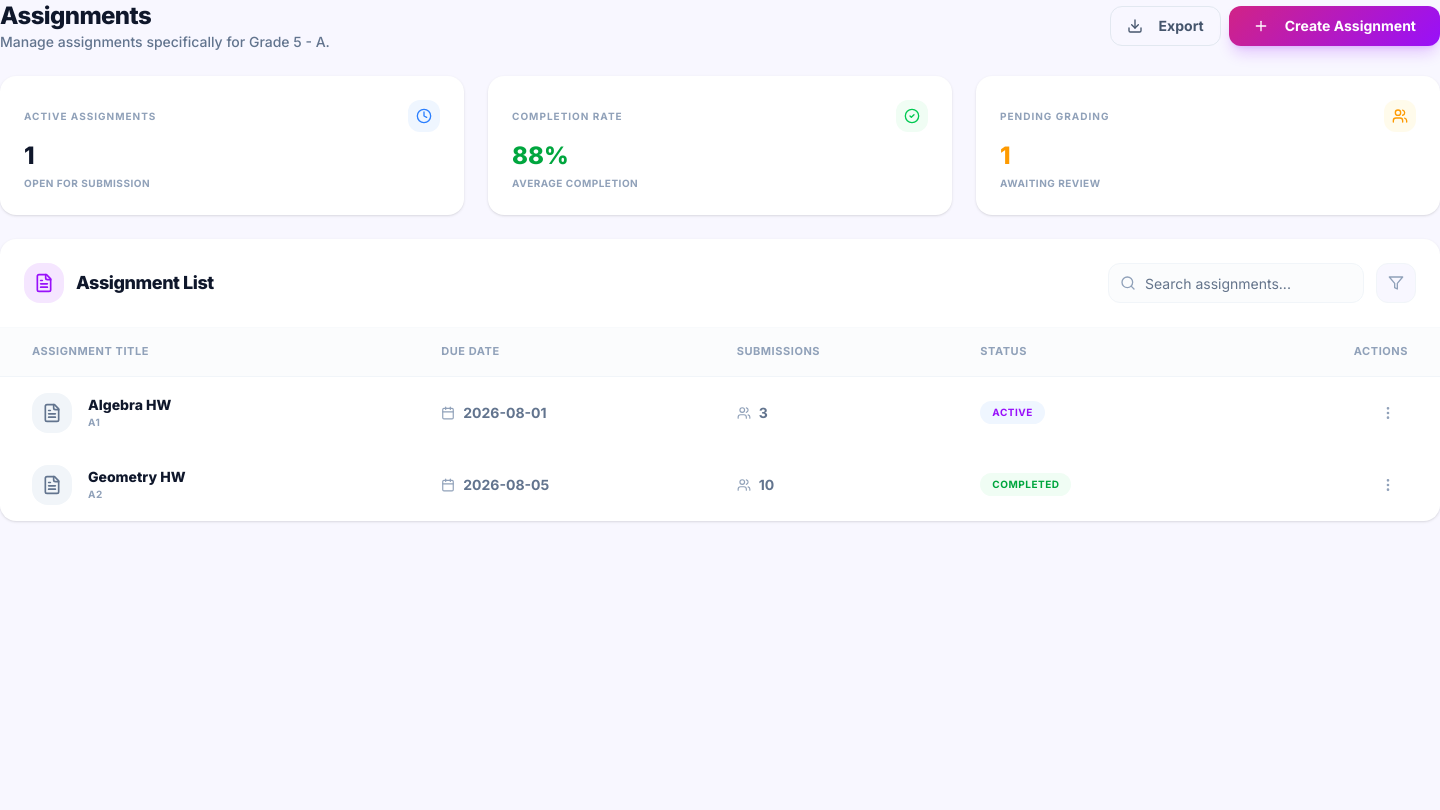
Test: ClassAssignmentsTab › opens the create assignment dialog
This screenshot has width=1440, height=810.
What coordinates should you click on to do the following:
click the button "Create Assignment"
I would click on:
 (1334, 26)
Its box is [1229,6,1439,46].
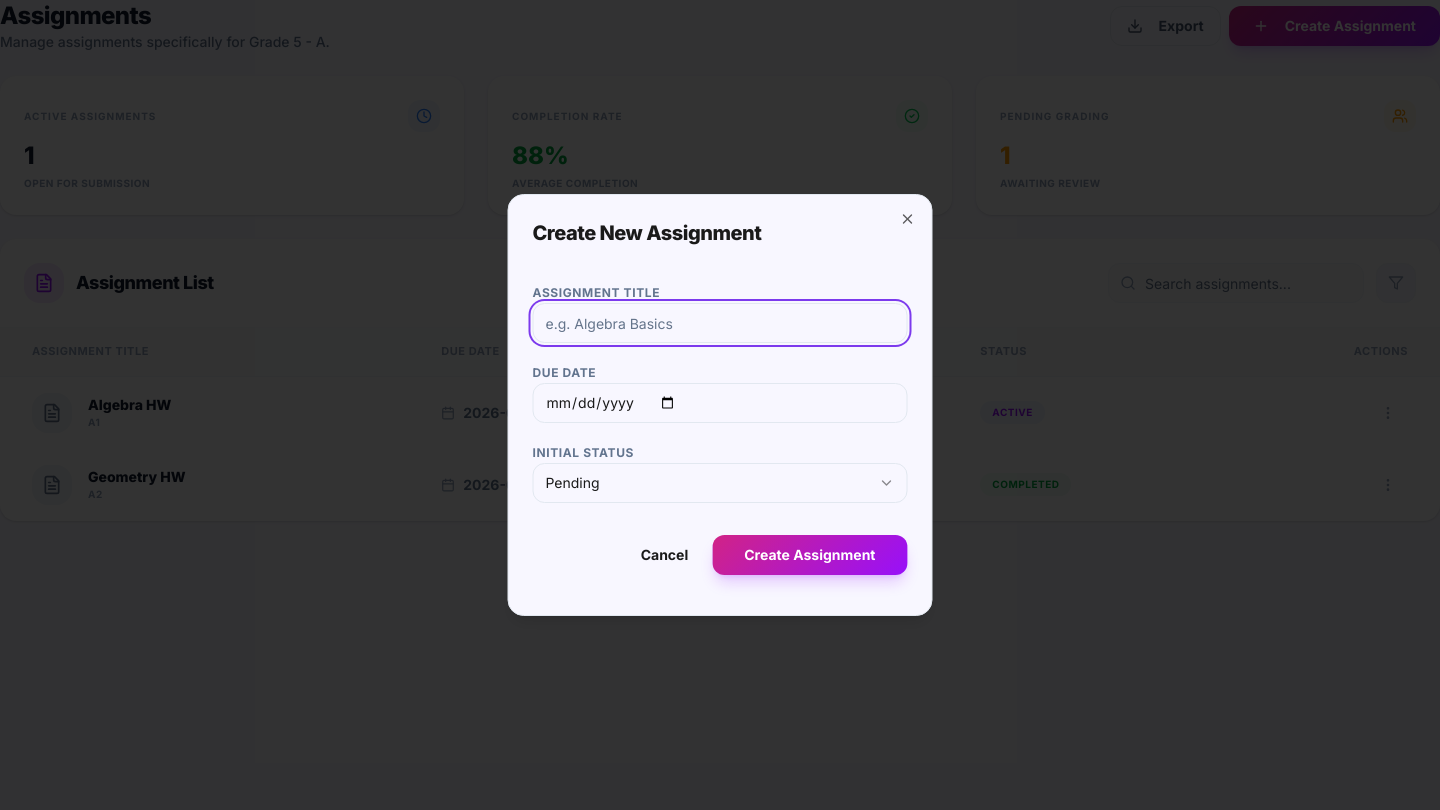
Result: the heading "Create New Assignment" is shown at [532,221,761,245]
